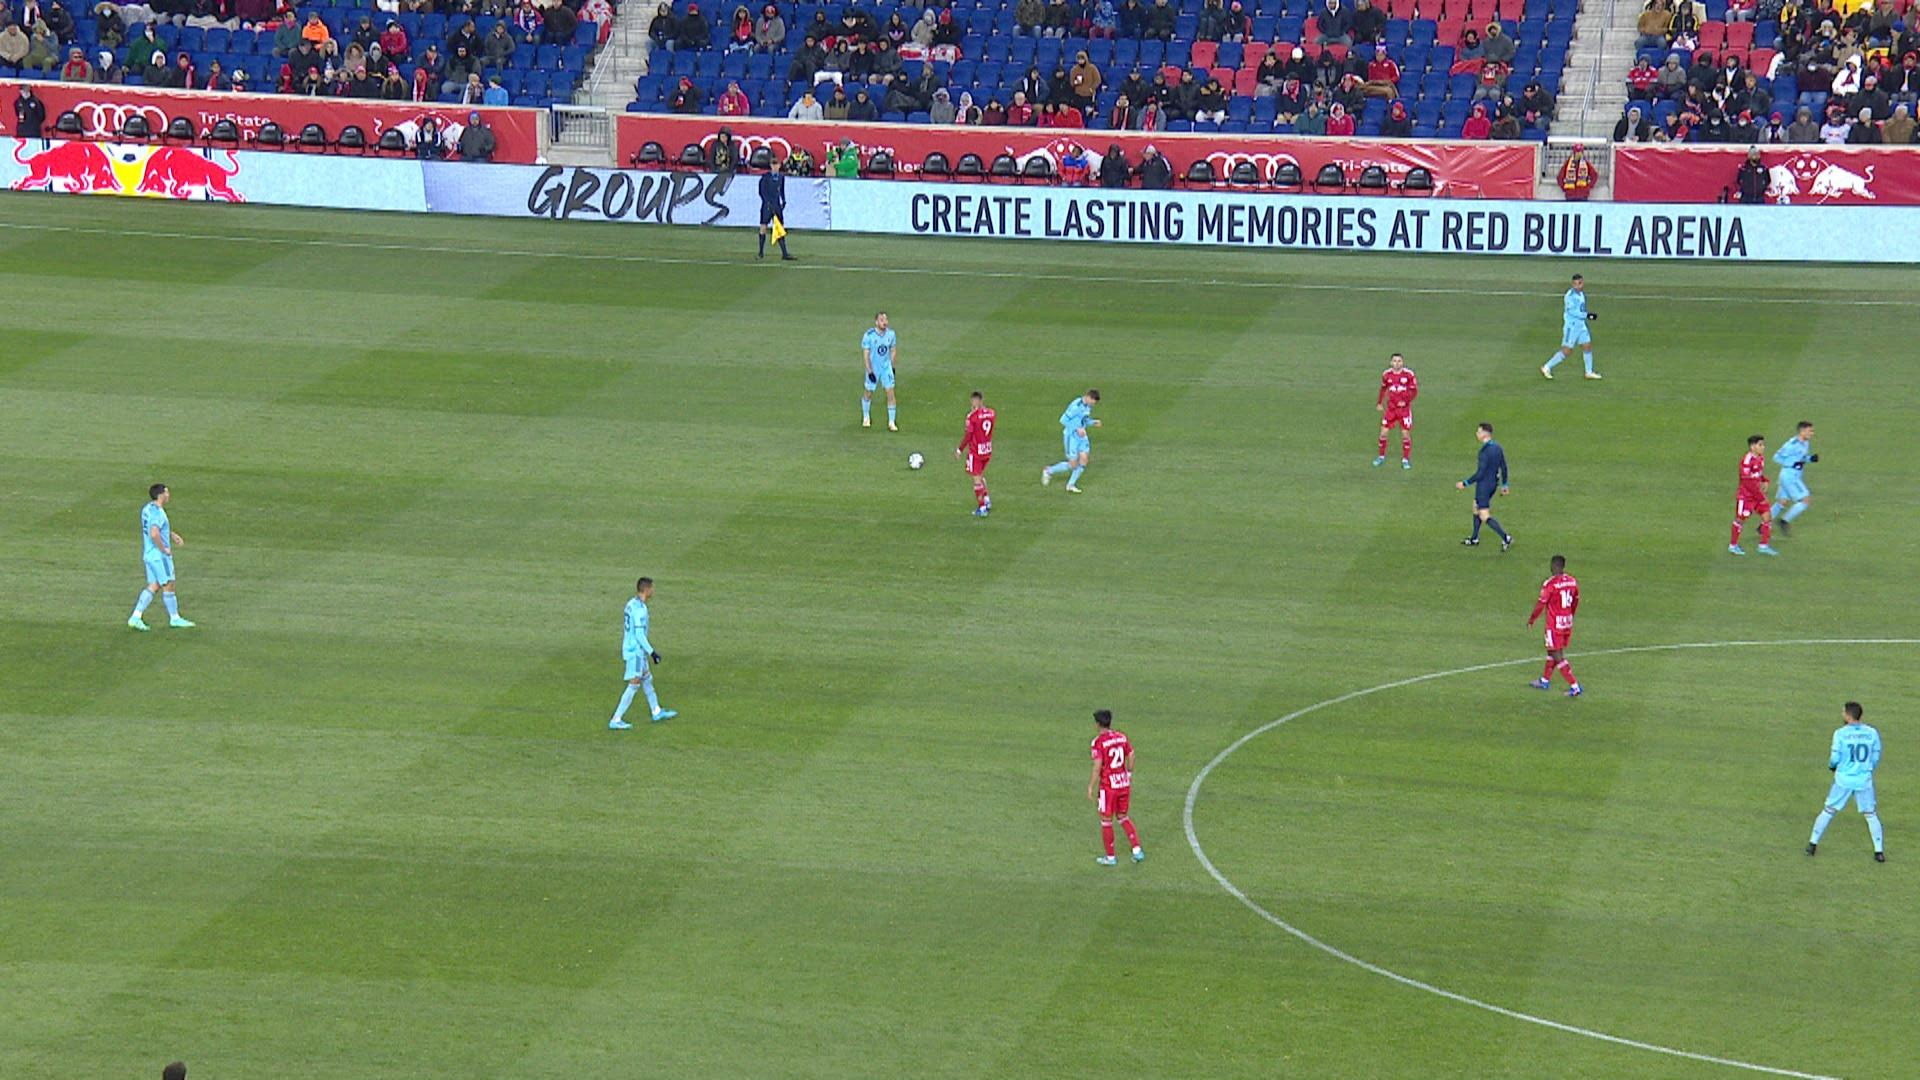football: (909, 452, 924, 469)
